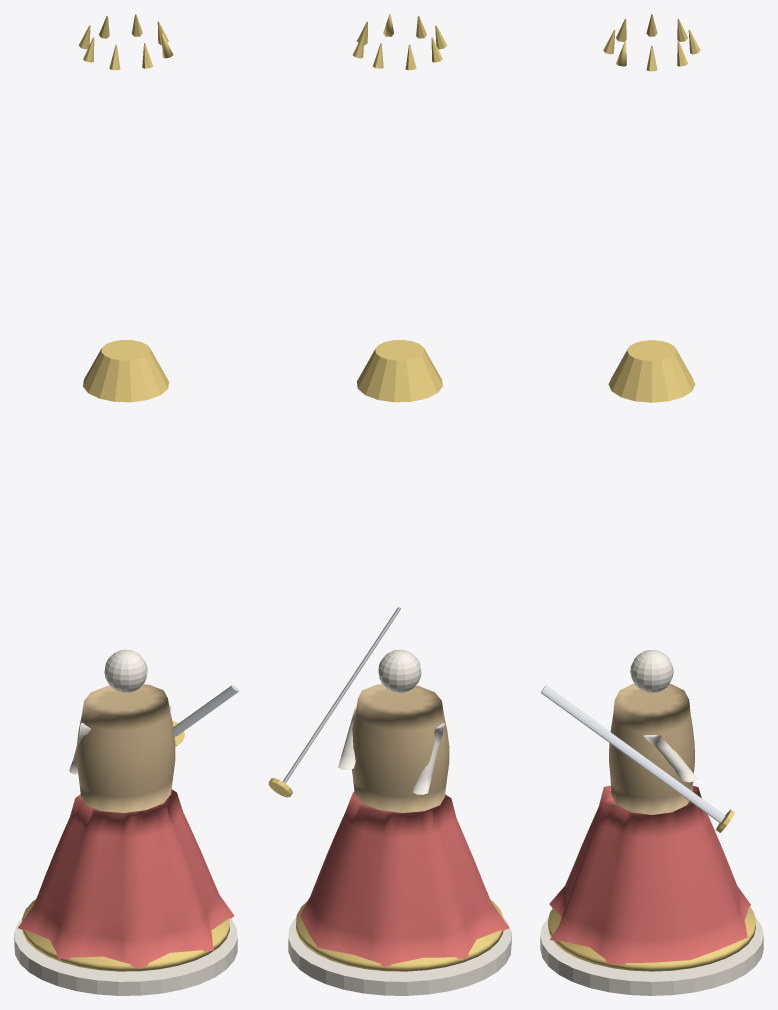
The picture shows the model from 3 angles, left to right: view 1: azimuth 30°, elevation 25°; view 2: azimuth 150°, elevation 25°; view 3: azimuth 270°, elevation 25°; orthographic projection.
Visible parts, largest first — view 1: Samrajni_Gown, Samrajni_Torso, Plinth_Stone, Samrajni_Crown, Plinth_GoldRim, Samrajni_Head, Samrajni_TalwarBlade; view 2: Samrajni_Gown, Samrajni_Torso, Plinth_Stone, Samrajni_Crown, Plinth_GoldRim, Samrajni_Head, Samrajni_TalwarBlade, Samrajni_LeftArm; view 3: Samrajni_Gown, Samrajni_Torso, Plinth_Stone, Samrajni_Crown, Plinth_GoldRim, Samrajni_TalwarBlade, Samrajni_Head, Samrajni_RightArm.
Boxes of the visible parts, x1,y1,x2,y2 form: Samrajni_Gown: (18, 789, 234, 968); Samrajni_Torso: (76, 684, 175, 812); Plinth_Stone: (14, 918, 237, 995); Samrajni_Crown: (83, 340, 168, 402); Plinth_GoldRim: (22, 899, 229, 971); Samrajni_Head: (104, 649, 147, 692); Samrajni_TalwarBlade: (173, 685, 239, 736); Samrajni_Gown: (300, 791, 509, 966); Samrajni_Torso: (351, 684, 449, 812); Plinth_Stone: (288, 917, 511, 995); Samrajni_Crown: (357, 340, 442, 402); Plinth_GoldRim: (296, 899, 503, 971); Samrajni_Head: (378, 649, 421, 692); Samrajni_TalwarBlade: (283, 607, 400, 783); Samrajni_LeftArm: (413, 723, 445, 794); Samrajni_Gown: (549, 785, 750, 964); Samrajni_Torso: (609, 683, 694, 814); Plinth_Stone: (540, 916, 763, 995); Samrajni_Crown: (608, 340, 695, 402); Plinth_GoldRim: (548, 906, 755, 971); Samrajni_TalwarBlade: (541, 685, 725, 823); Samrajni_Head: (630, 650, 673, 692); Samrajni_RightArm: (643, 735, 697, 782).
Bounding box in the file's own units: 0.72 × 3.26 × 0.72.
